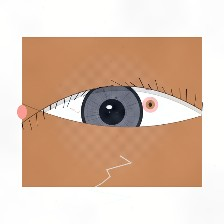foreign_body_visible: (139, 96, 161, 114)
